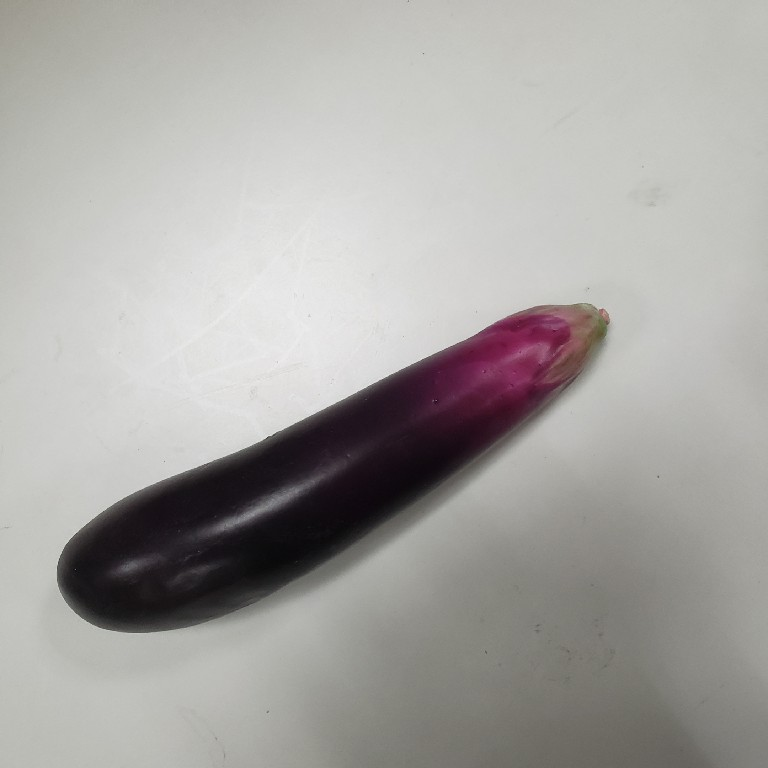fruit_eggplant: (52, 297, 617, 636)
